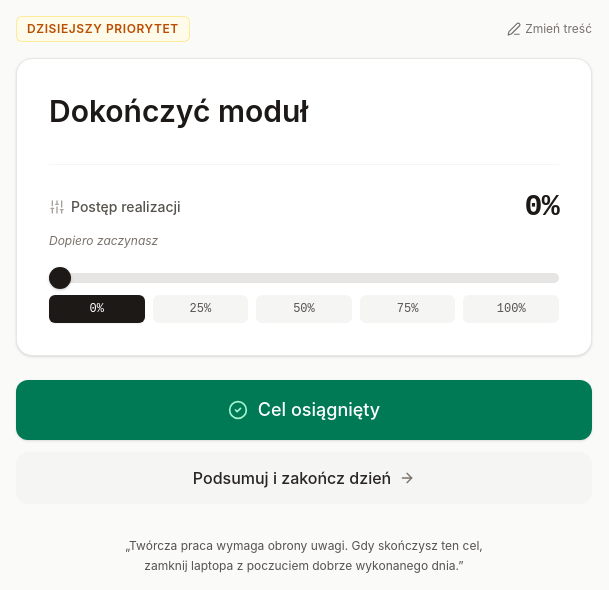
Scenario: ActiveGoal › przycisk etapu ustawia postęp i opis
Click the button "50%". click: (304, 309)
box: [256,295,352,323]
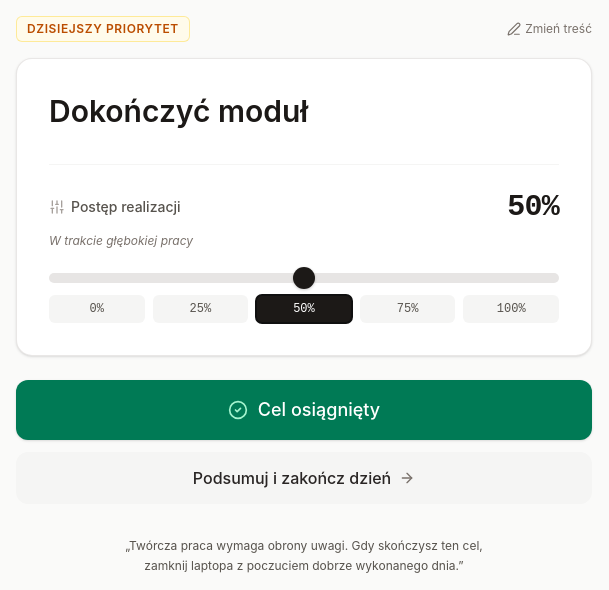
Expected: the text "W trakcie głębokiej pracy" is shown, [49,233,193,248]
